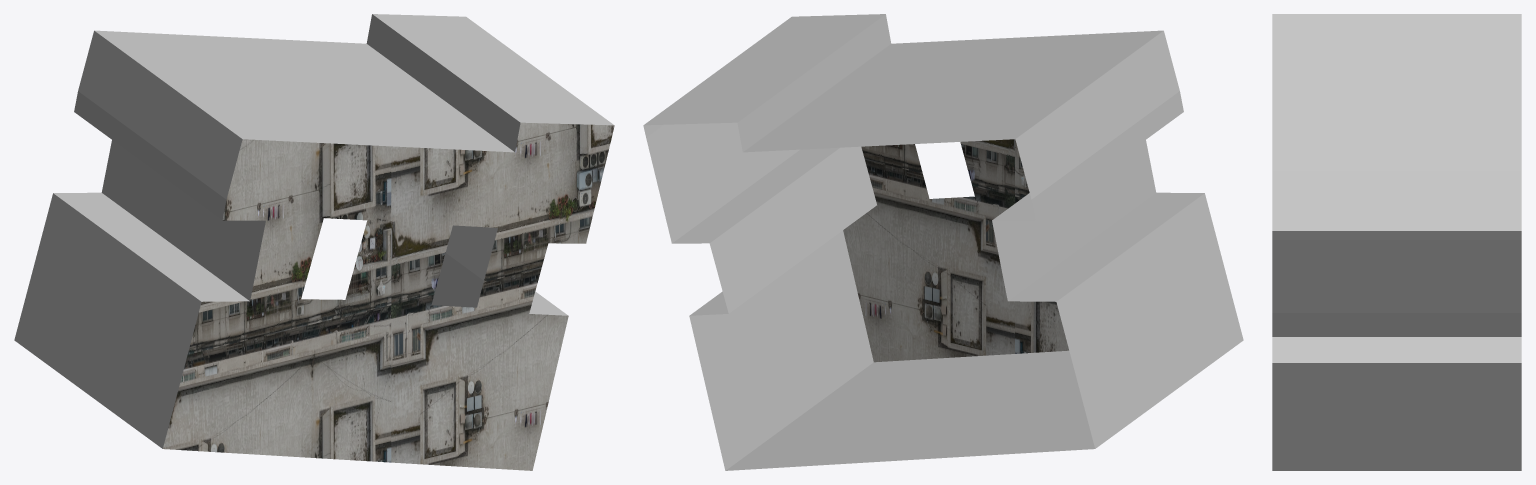
File: geospecific_272.obj
The picture shows the model from 3 angles, left to right: view 1: azimuth 30°, elevation 25°; view 2: azimuth 150°, elevation 25°; view 3: azimuth 270°, elevation 25°; orthographic projection. The views are drawn at different scales.
Visible parts, largest first — view 1: Building; view 2: Building; view 3: Building.
Boxes of the visible parts, x1=… form: Building: x1=14, y1=14, x2=614, y2=470; Building: x1=643, y1=14, x2=1243, y2=470; Building: x1=1272, y1=14, x2=1521, y2=470.
Bounding box in the file's own units: 31.63 × 26.92 × 18.
